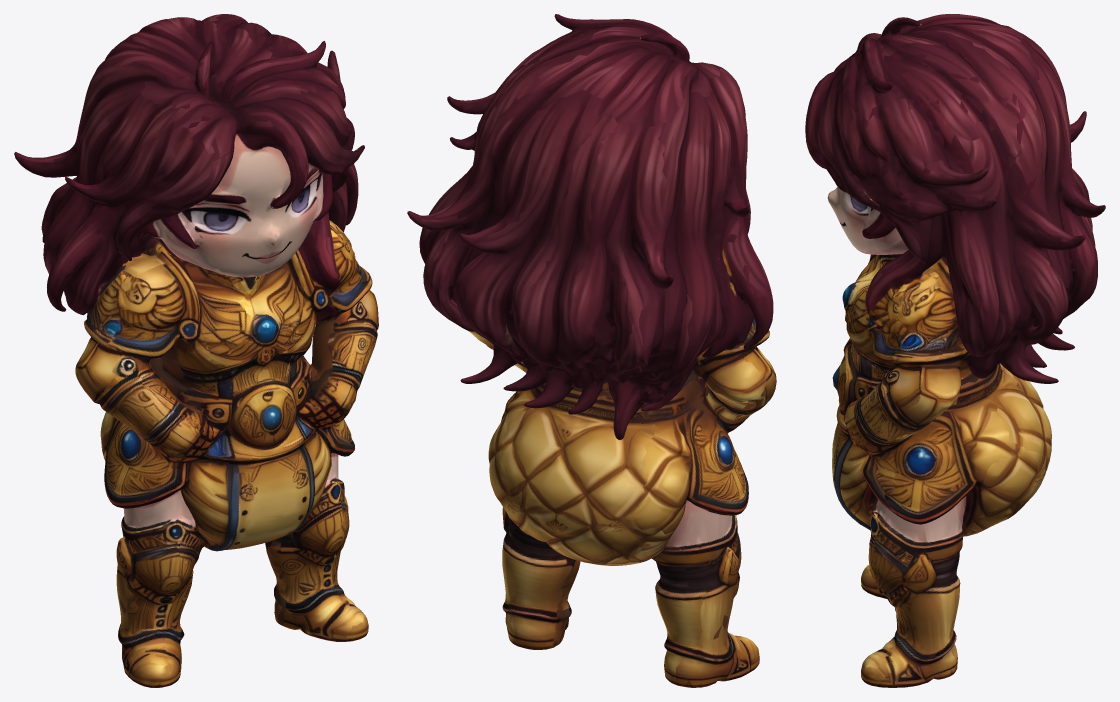
File: ally.glb
The picture shows the model from 3 angles, left to right: view 1: azimuth 30°, elevation 25°; view 2: azimuth 150°, elevation 25°; view 3: azimuth 270°, elevation 25°; orthographic projection. The views are drawn at different scales.
Visible parts, largest first — view 1: temp_mesh.ply; view 2: temp_mesh.ply; view 3: temp_mesh.ply.
Boxes of the visible parts, x1=… form: temp_mesh.ply: x1=14, y1=14, x2=378, y2=687; temp_mesh.ply: x1=407, y1=14, x2=776, y2=687; temp_mesh.ply: x1=805, y1=14, x2=1105, y2=687.
Size of the model in its own units: 1.11 by 1.97 by 0.894.
Materials: 1 (1 with a texture image).
